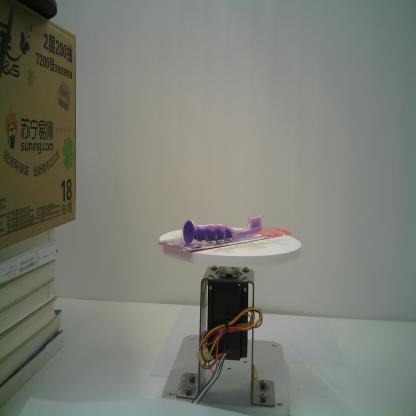Personal Hygiene: (157, 214, 293, 253)
